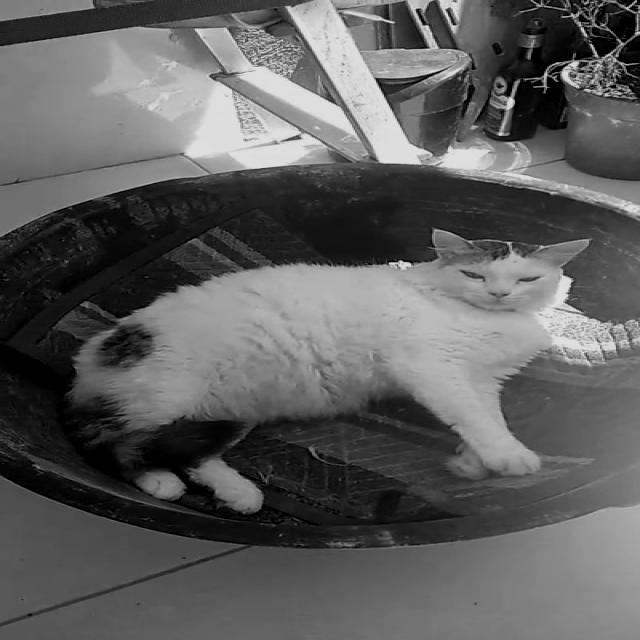Simba: (40, 212, 638, 510)
